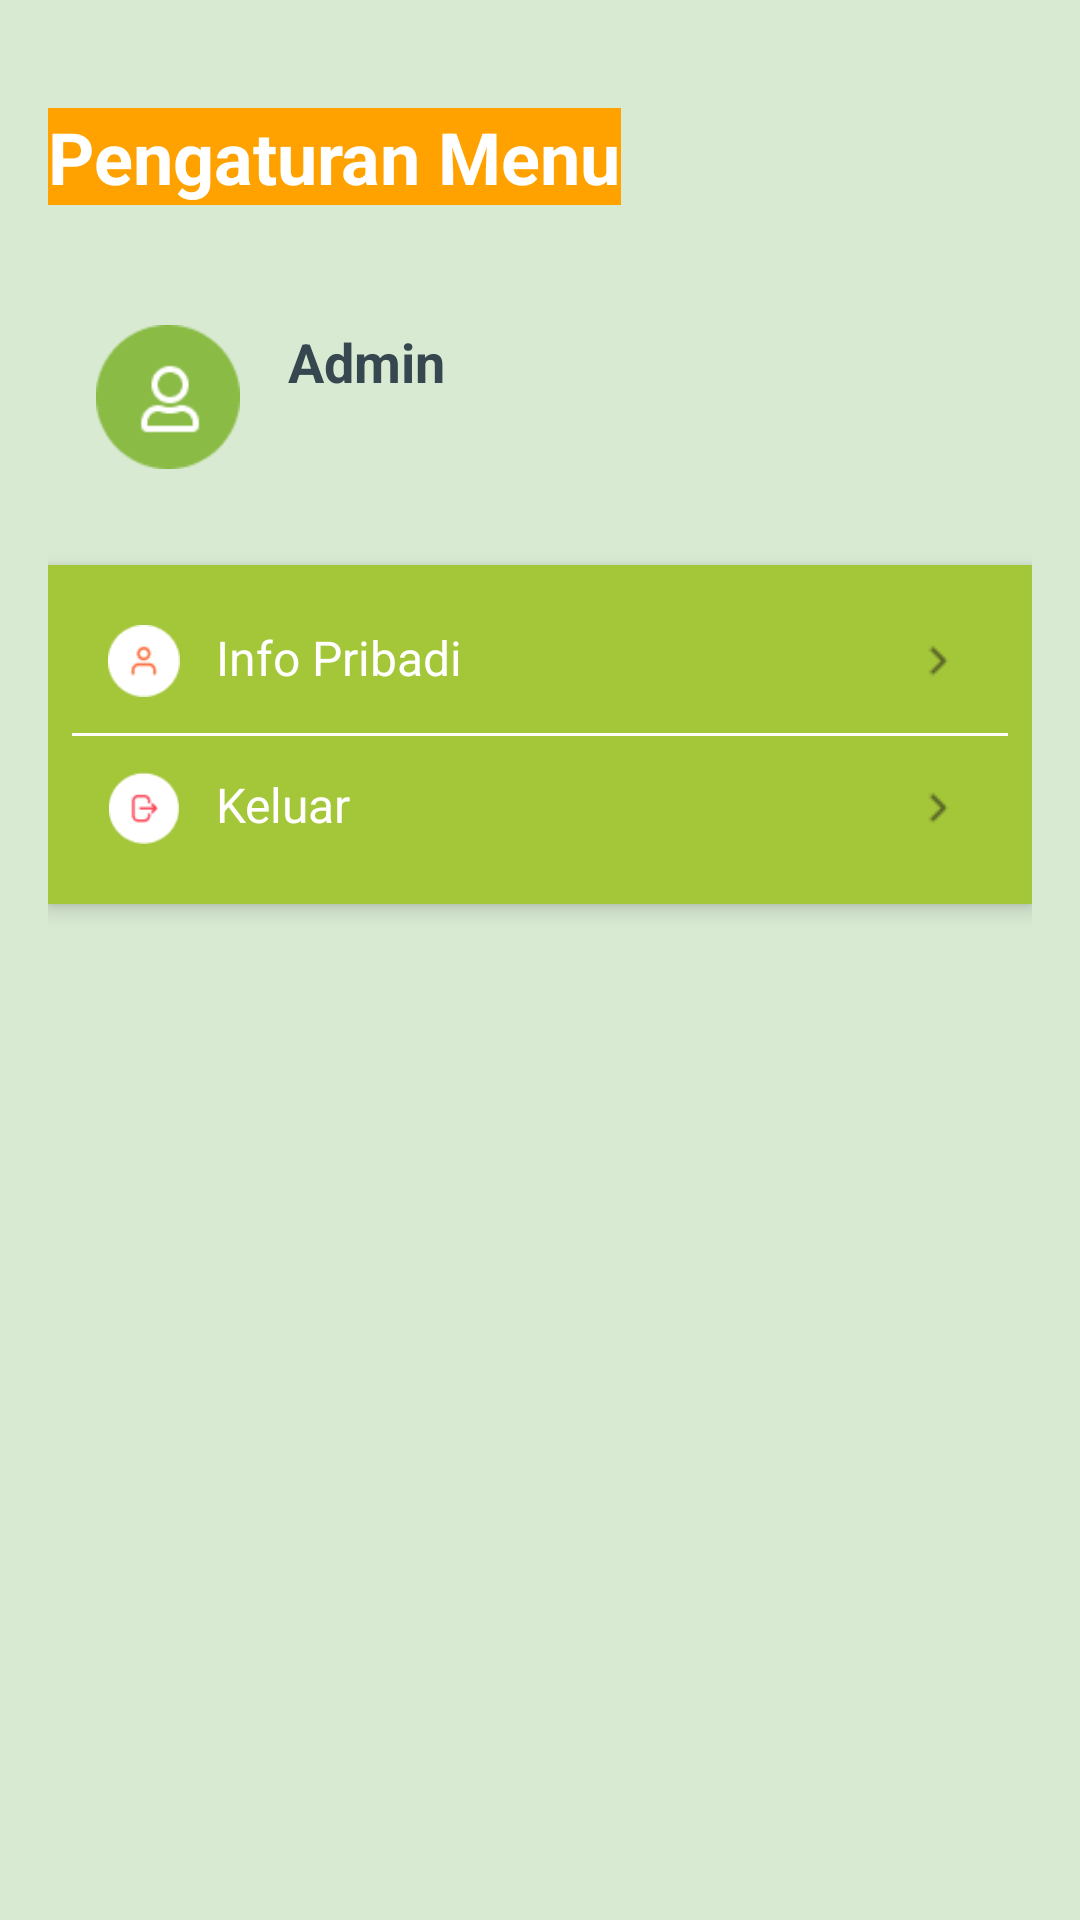

Screen size 1080*1920. Icon name, then its box in pixels as bbox=(x1, y1, x2, y2):
right: bbox=(930, 646, 947, 675), bbox=(930, 793, 947, 822)
user: bbox=(108, 625, 180, 697)
userprofil: bbox=(96, 325, 240, 469)
